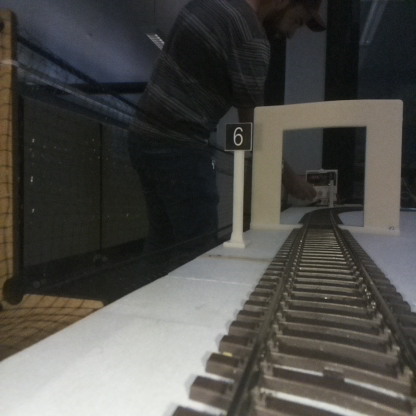black-info-6: (226, 122, 251, 245)
